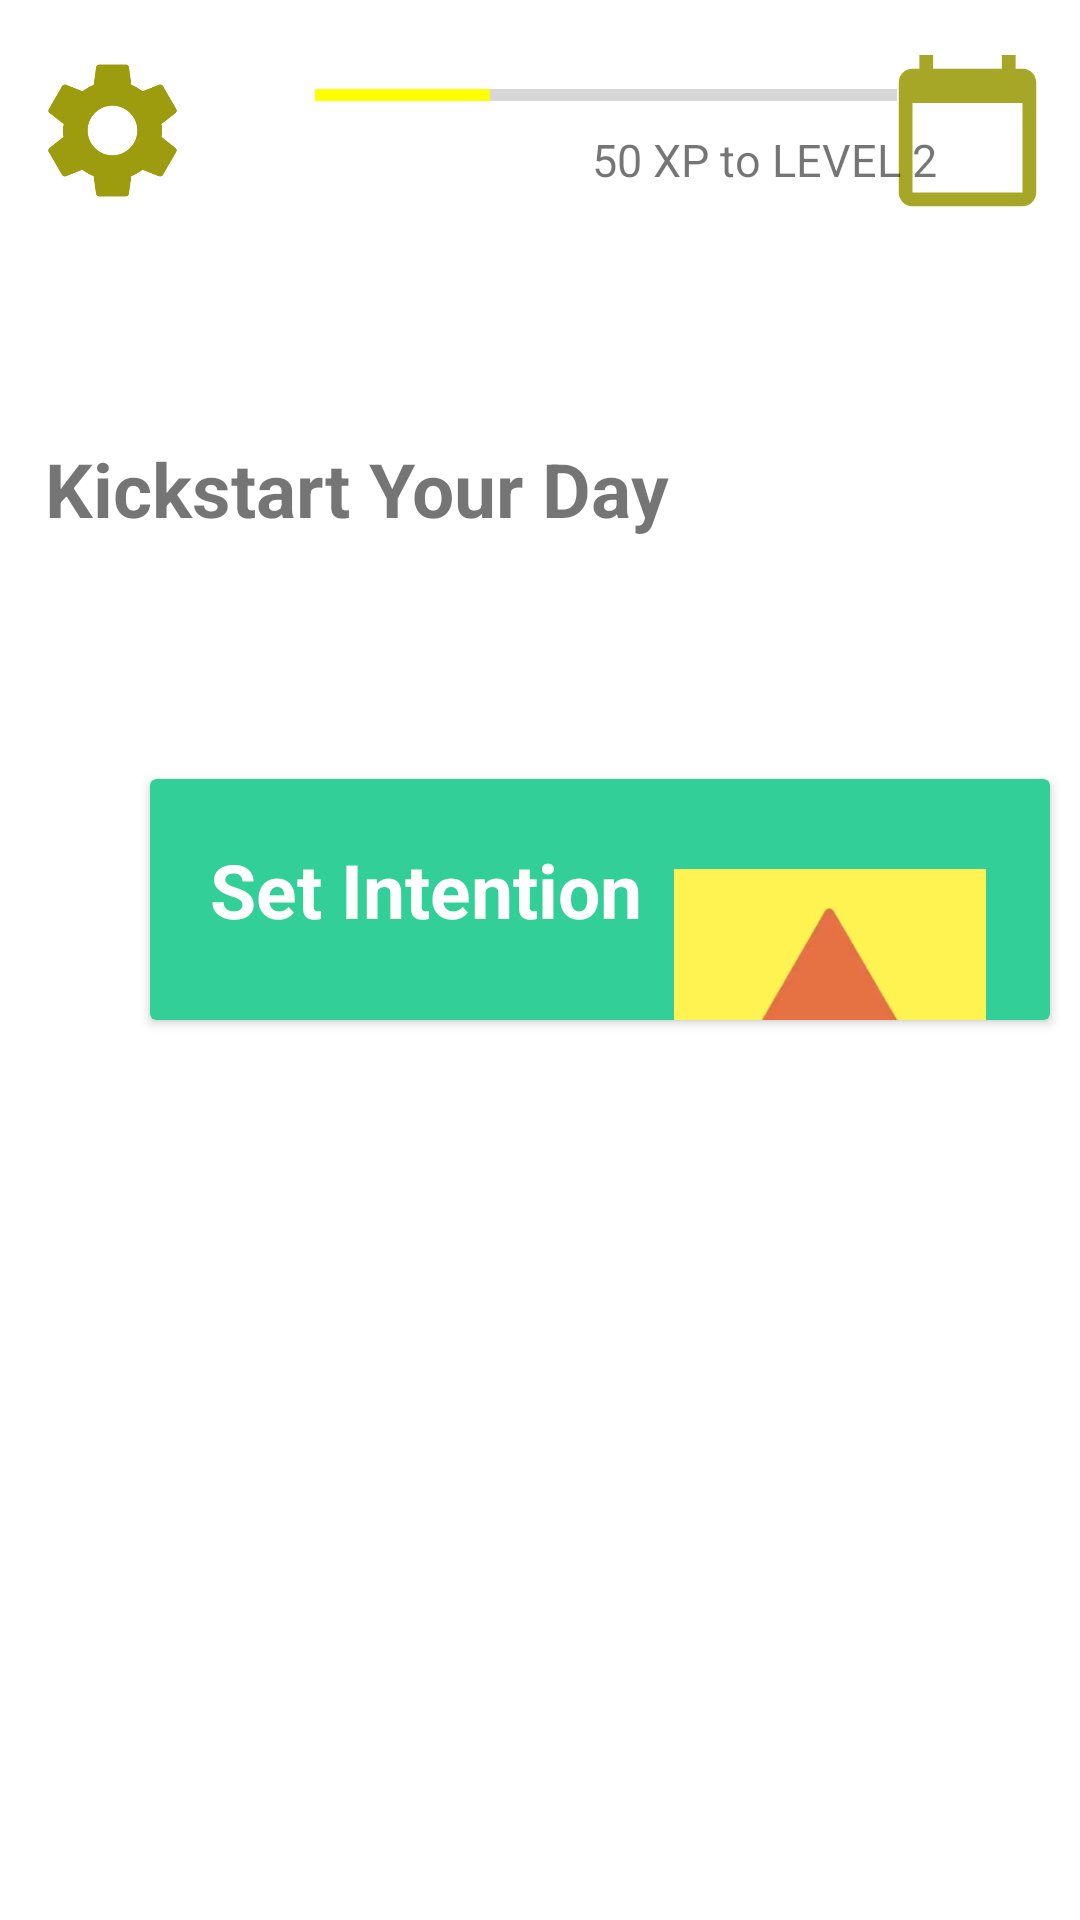

Point at icon controls on the screen. Image size 1080 x 1920, points as [x,y].
calender: [961,131]
setting: [112,130]
